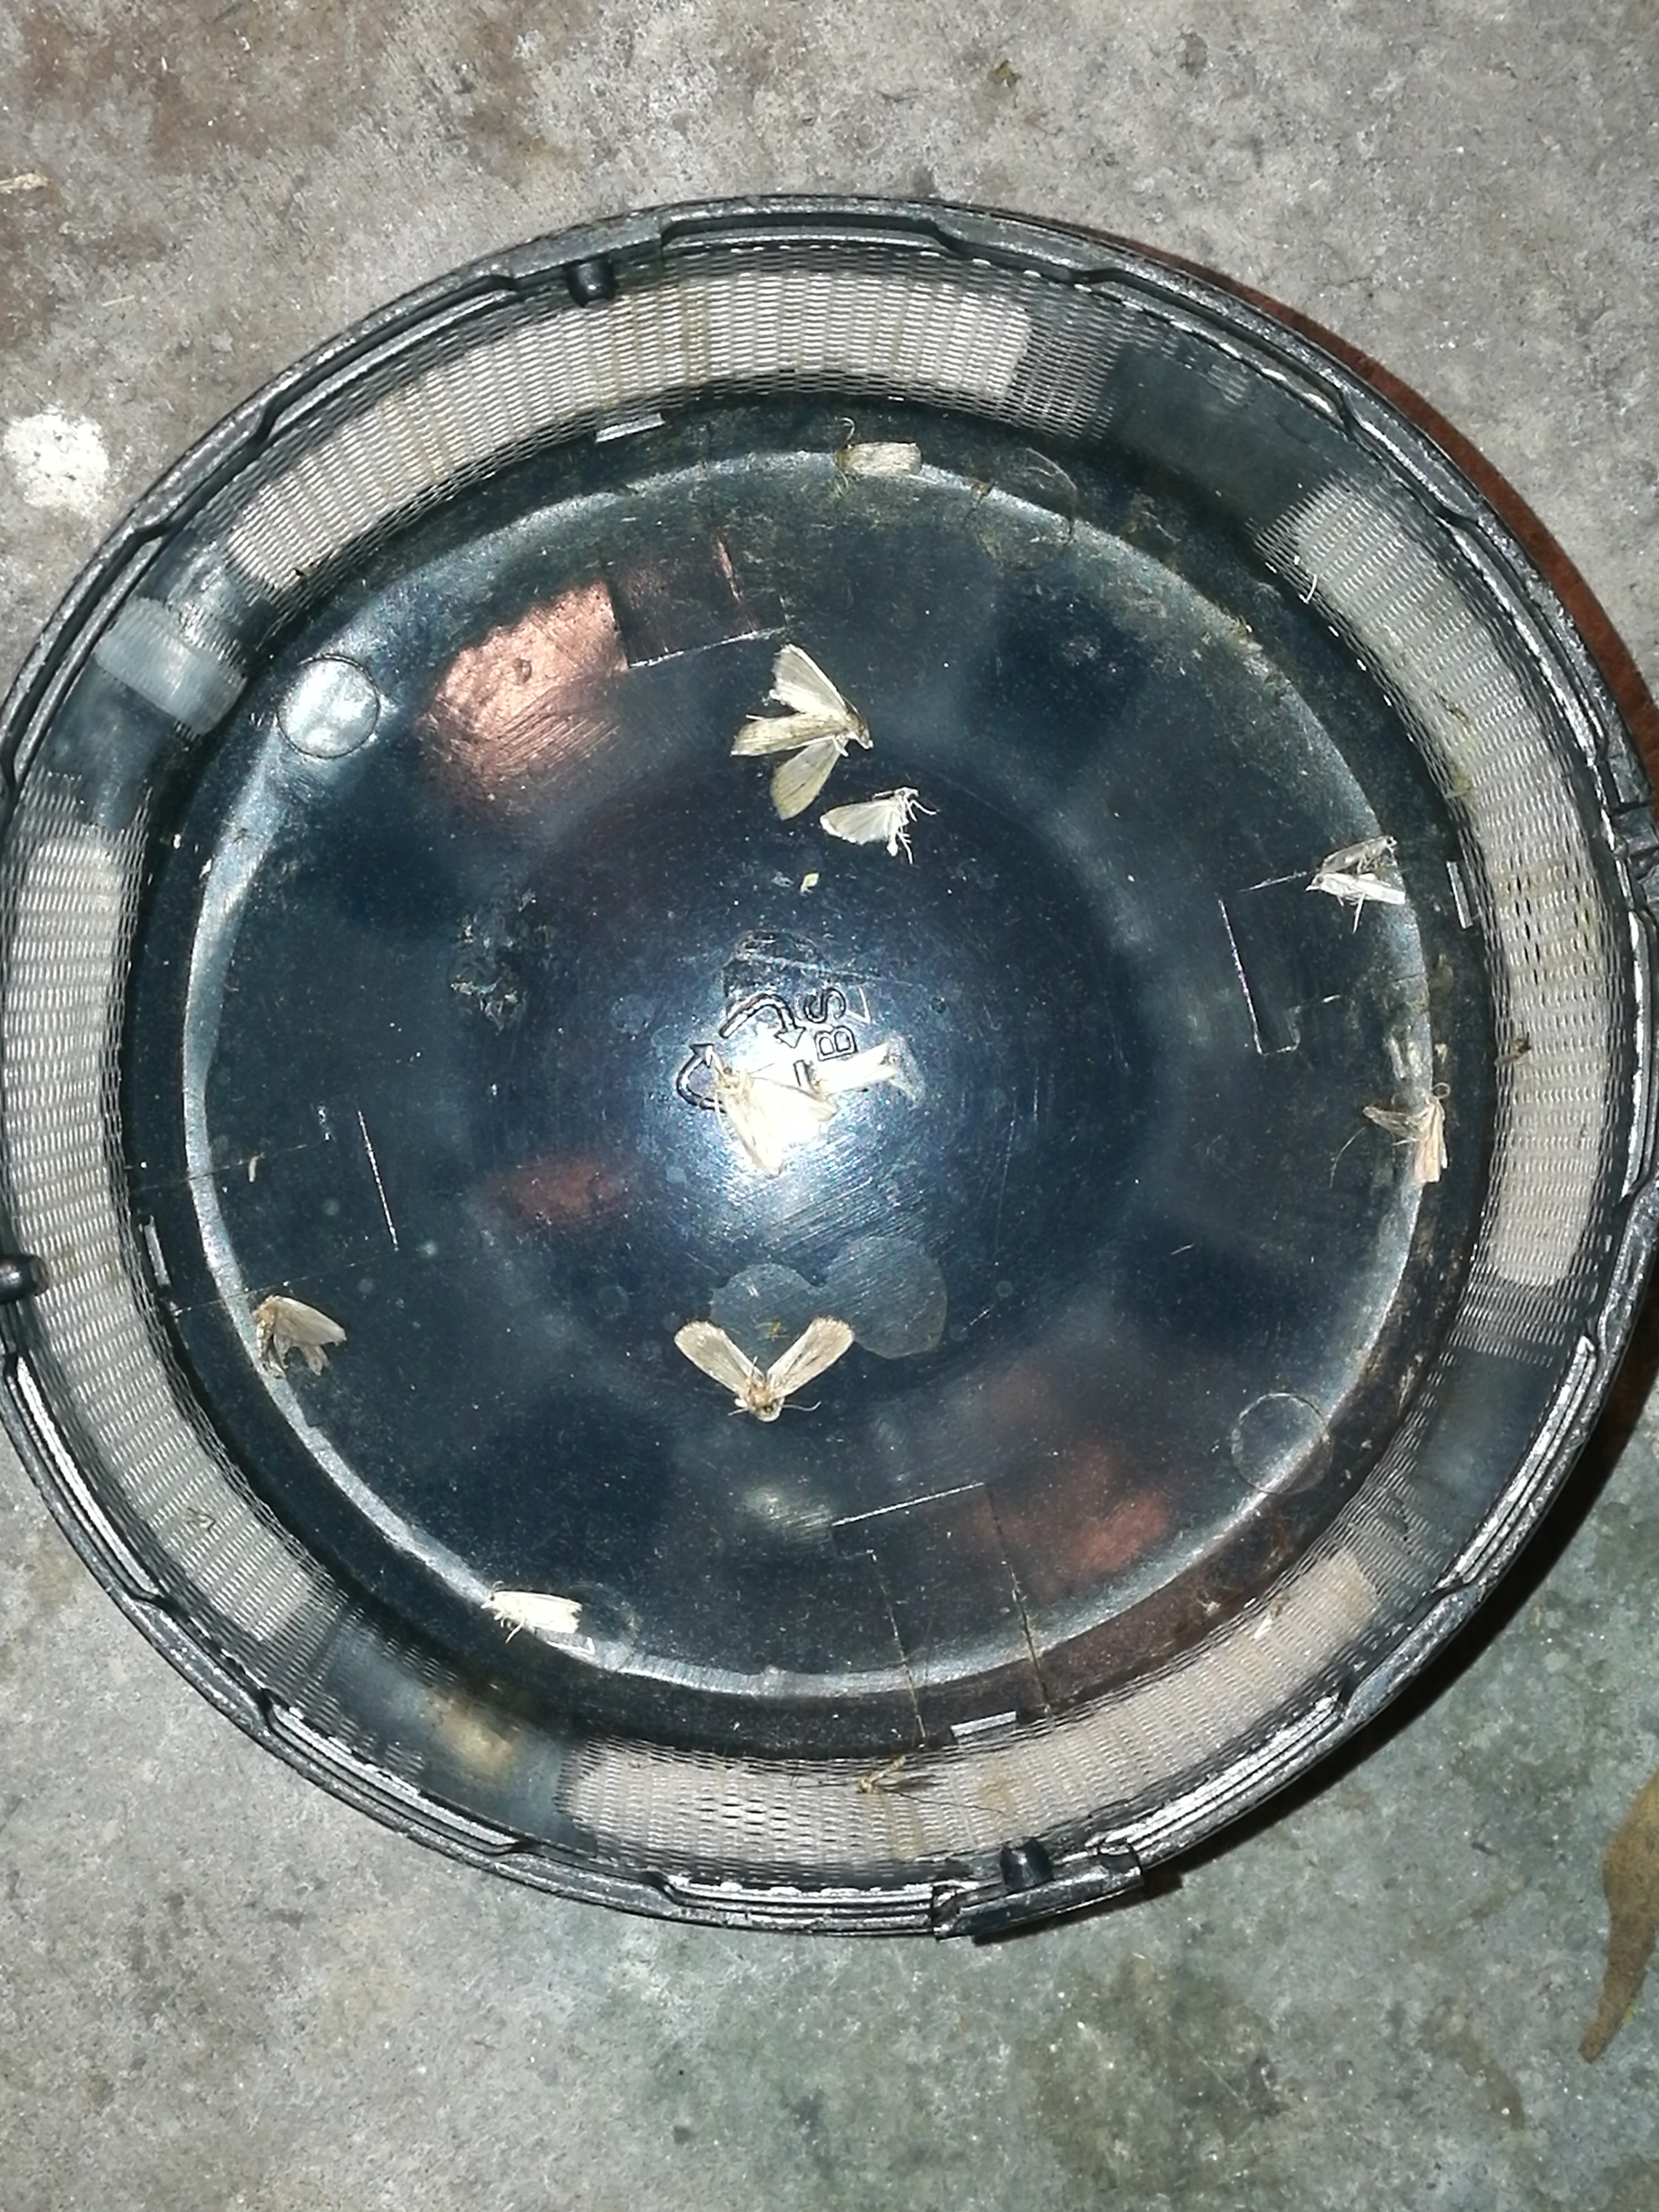mosquito: (483, 1592, 580, 1634), (1412, 1092, 1446, 1184), (1307, 874, 1403, 904)
moth: (732, 646, 873, 817), (673, 1318, 852, 1421), (256, 1296, 345, 1376), (821, 786, 918, 853), (842, 441, 918, 475)
